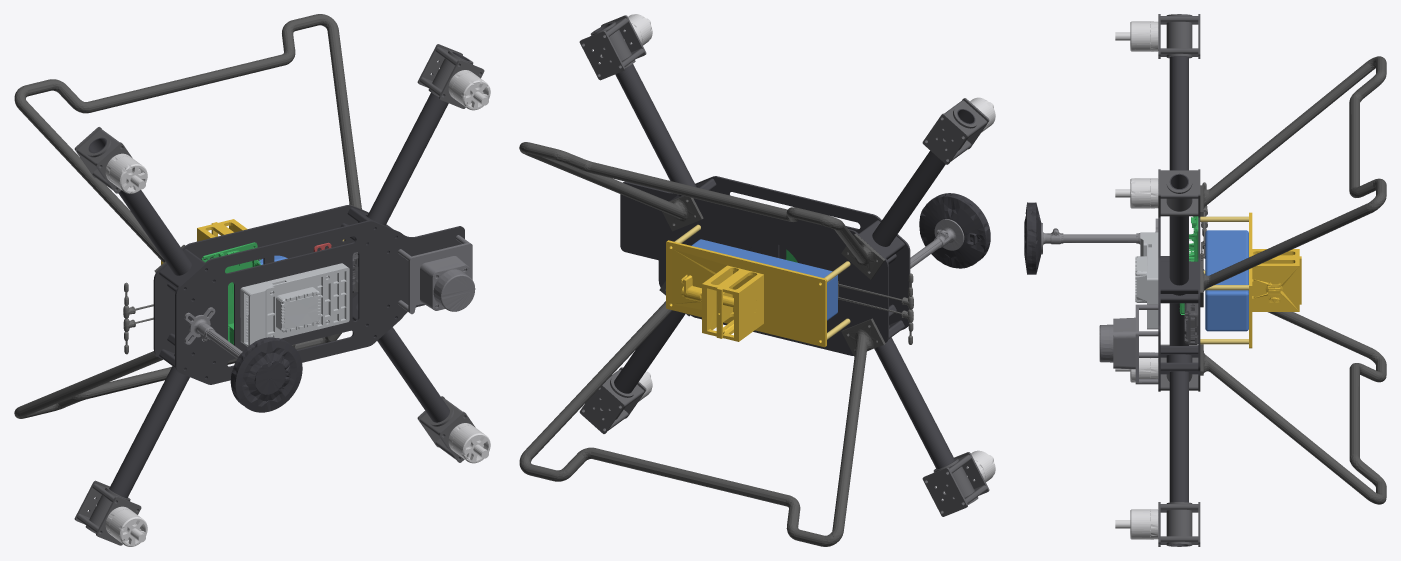
File: body.glb
3 renders of one model, left to right at view 1: azimuth 30°, elevation 25°; view 2: azimuth 150°, elevation 25°; view 3: azimuth 270°, elevation 25°, orthographic. The views are drawn at different scales.
Bounding box in the file's own units: 0.3889 × 0.3862 × 0.3359.
